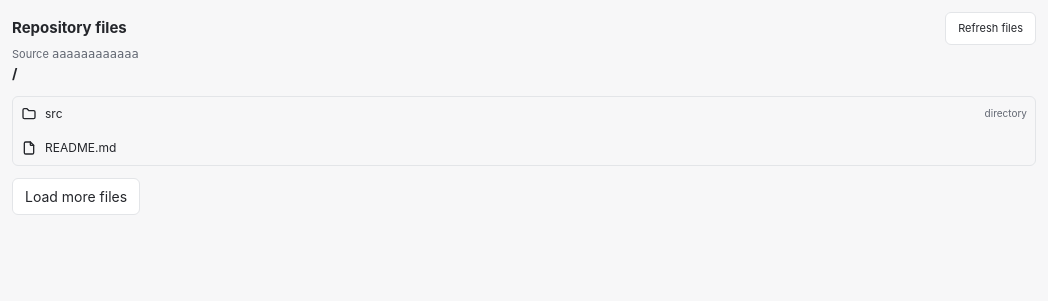
paginates immutable lists and reports supported non-text states truthfully
Click the button "Load more files" at (76, 196), box [12,178,140,214]
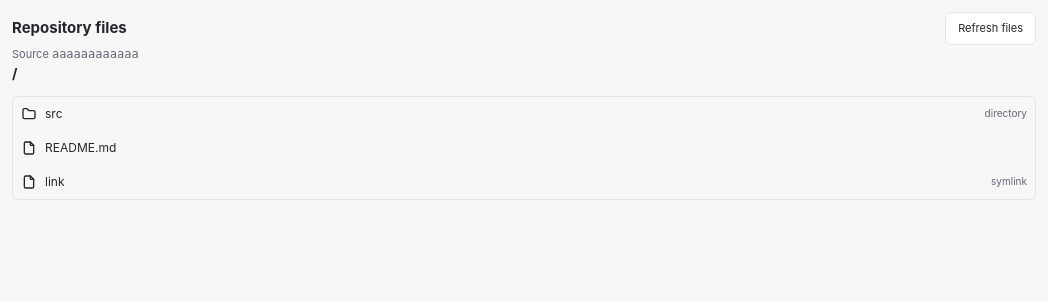
Click the button "link symlink" at (1009, 181), box [13,164,1035,198]
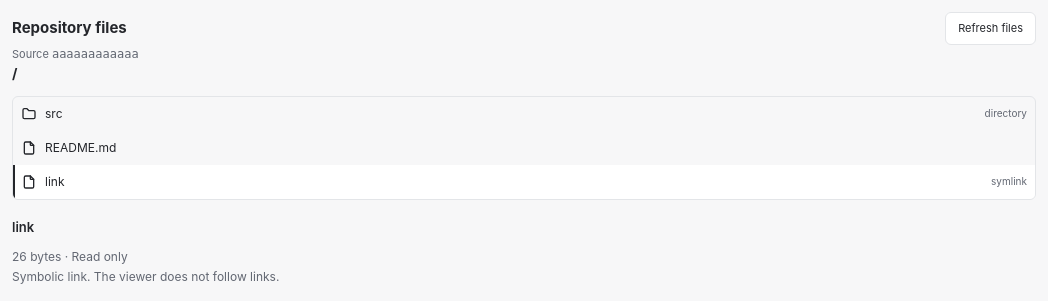
Expected: the text "Symbolic link. The viewer does not follow links." is shown, [12,269,279,284]
